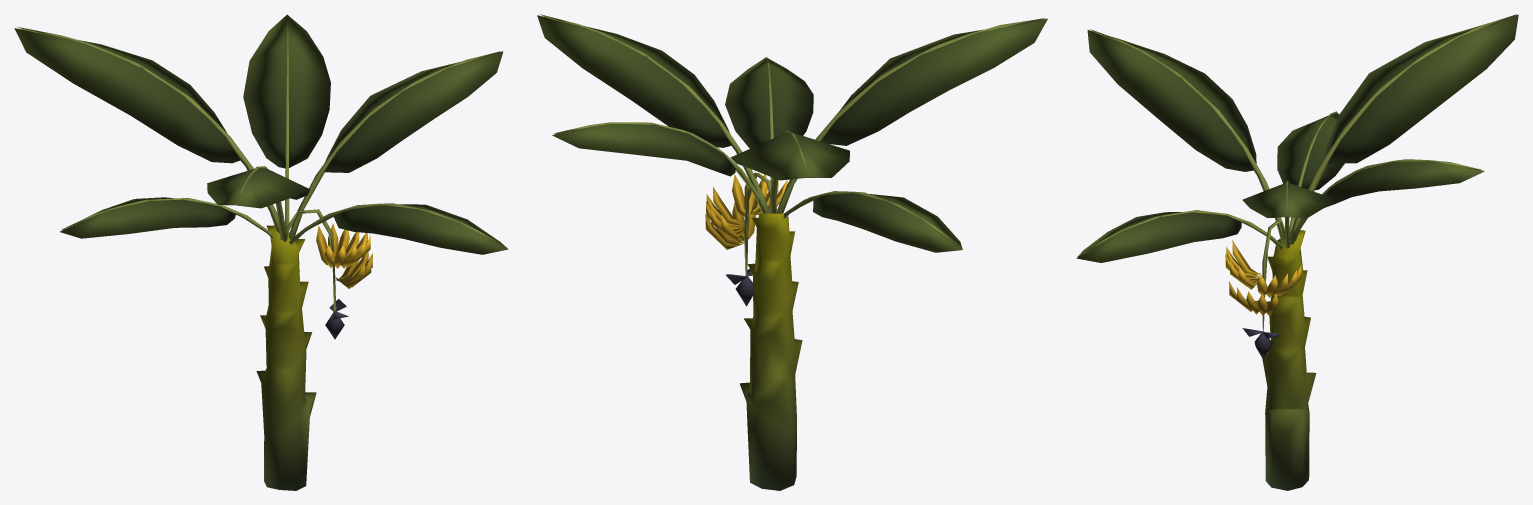
File: Plants_Tree_5.fbx
The picture shows the model from 3 angles, left to right: view 1: azimuth 30°, elevation 25°; view 2: azimuth 150°, elevation 25°; view 3: azimuth 270°, elevation 25°; orthographic projection. The views are drawn at different scales.
Parts seen in each view (by area): view 1: Plants_Tree_5_LOD0; view 2: Plants_Tree_5_LOD0; view 3: Plants_Tree_5_LOD0.
Part boxes in pixels (x1,y1,x2,y2): Plants_Tree_5_LOD0: (14, 14, 508, 490); Plants_Tree_5_LOD0: (537, 14, 1047, 490); Plants_Tree_5_LOD0: (1076, 14, 1518, 490).
Size of what is drawn, in the model's own units: 382 by 354 by 358.
